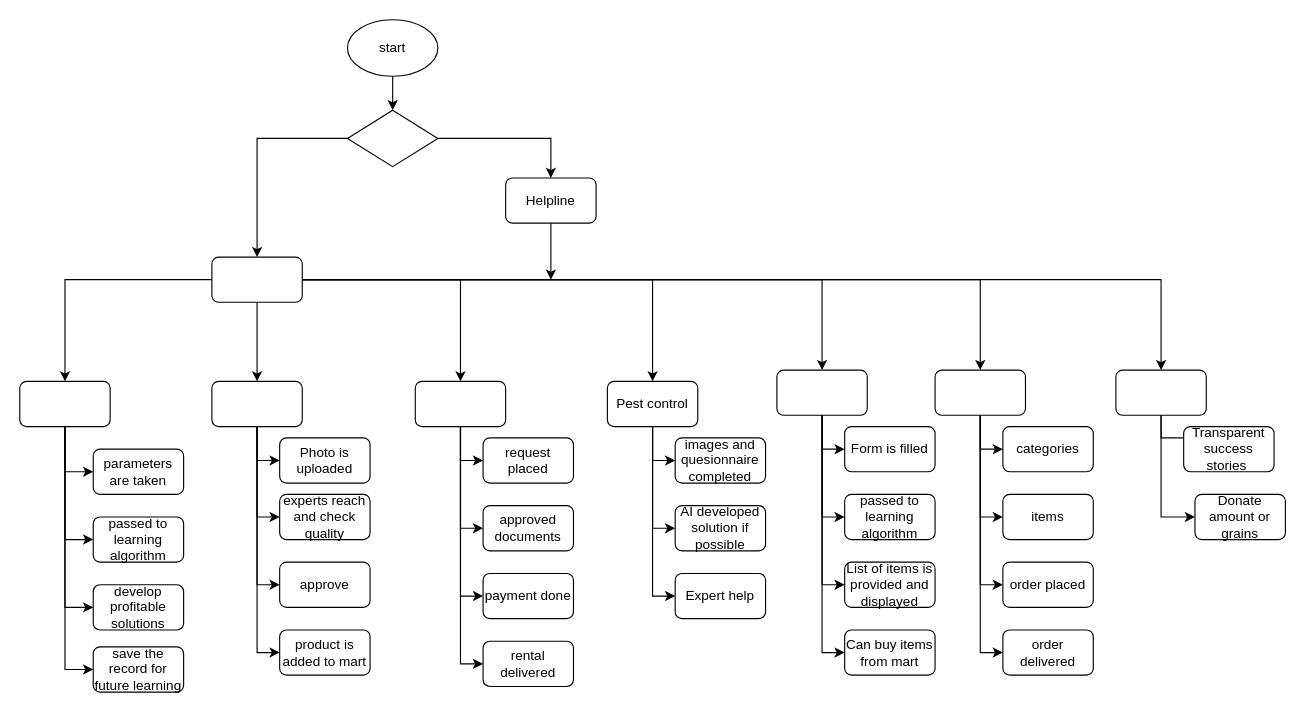
Image size: 1305x713. Some labels were removed from this diagram. The shapes that lost their labels are listed below. From the top down, each one's box as (x1, y1, x2, y2) in pixels, then its label:
(346, 109, 438, 167): or
(211, 256, 302, 302): Login/Register
(19, 380, 110, 427): production
(211, 380, 302, 427): sell on
(414, 380, 506, 427): Machinery
(776, 369, 867, 415): nutritious diet
(934, 369, 1025, 415): Mart
(1115, 369, 1206, 415): Donation
